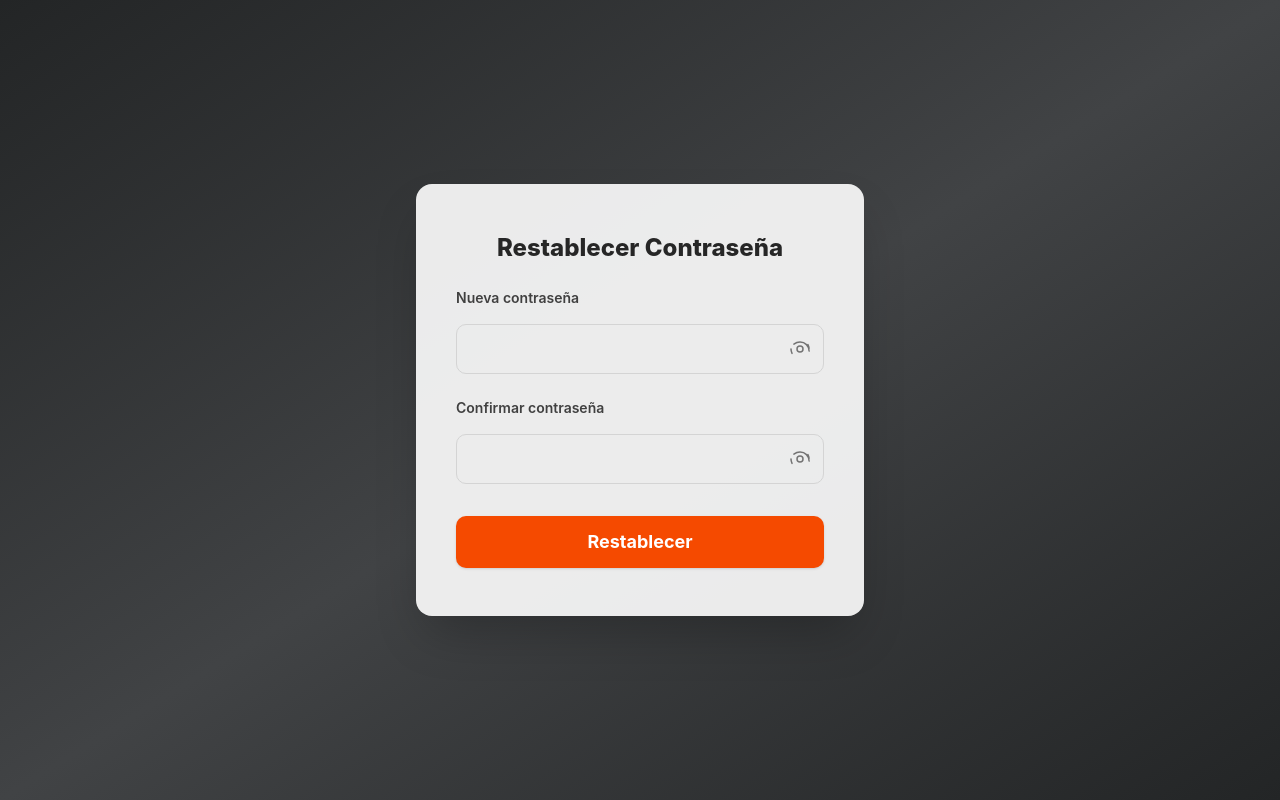
Test case: ResetPassword › shows error when password is too short
Type "12345" into the password field labelled "Nueva contraseña" at (640,349), box [456,324,824,374]
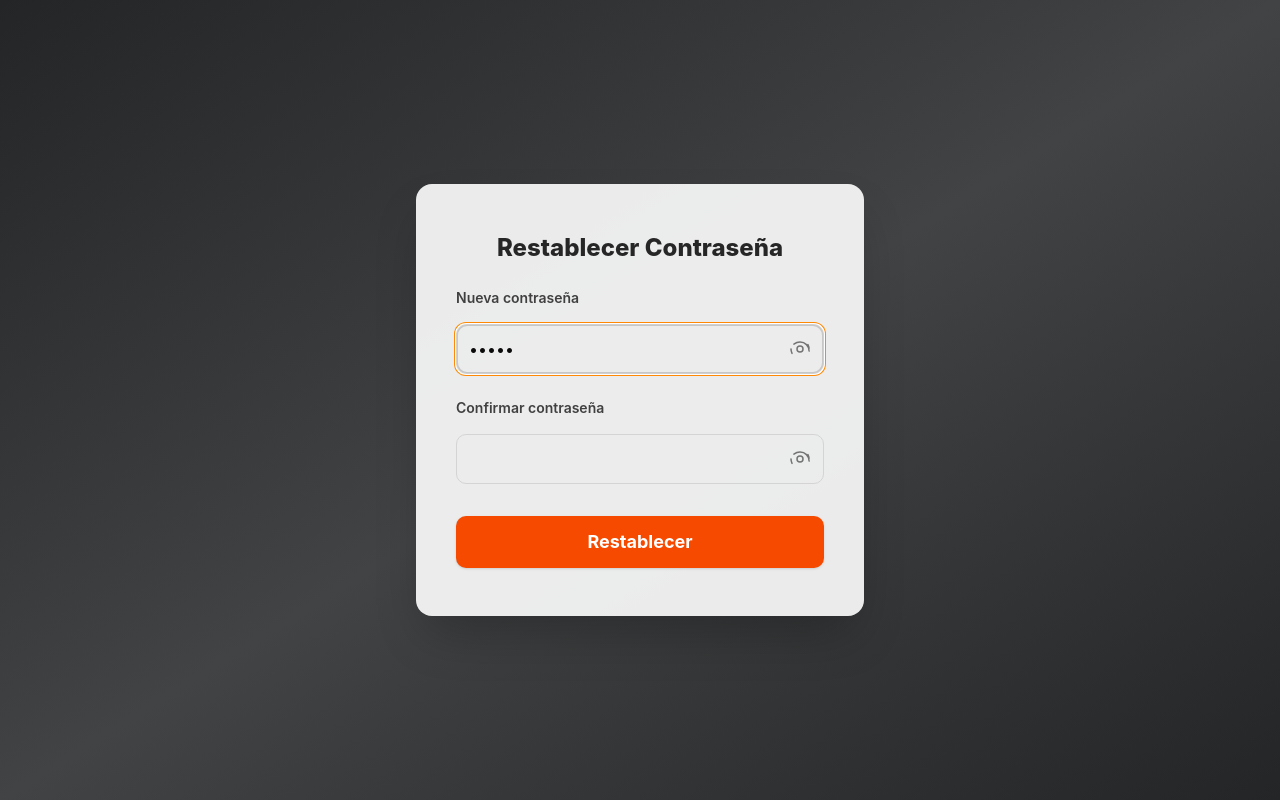
Type "12345" into the password field labelled "Confirmar contraseña" at (640,459), box [456,434,824,484]
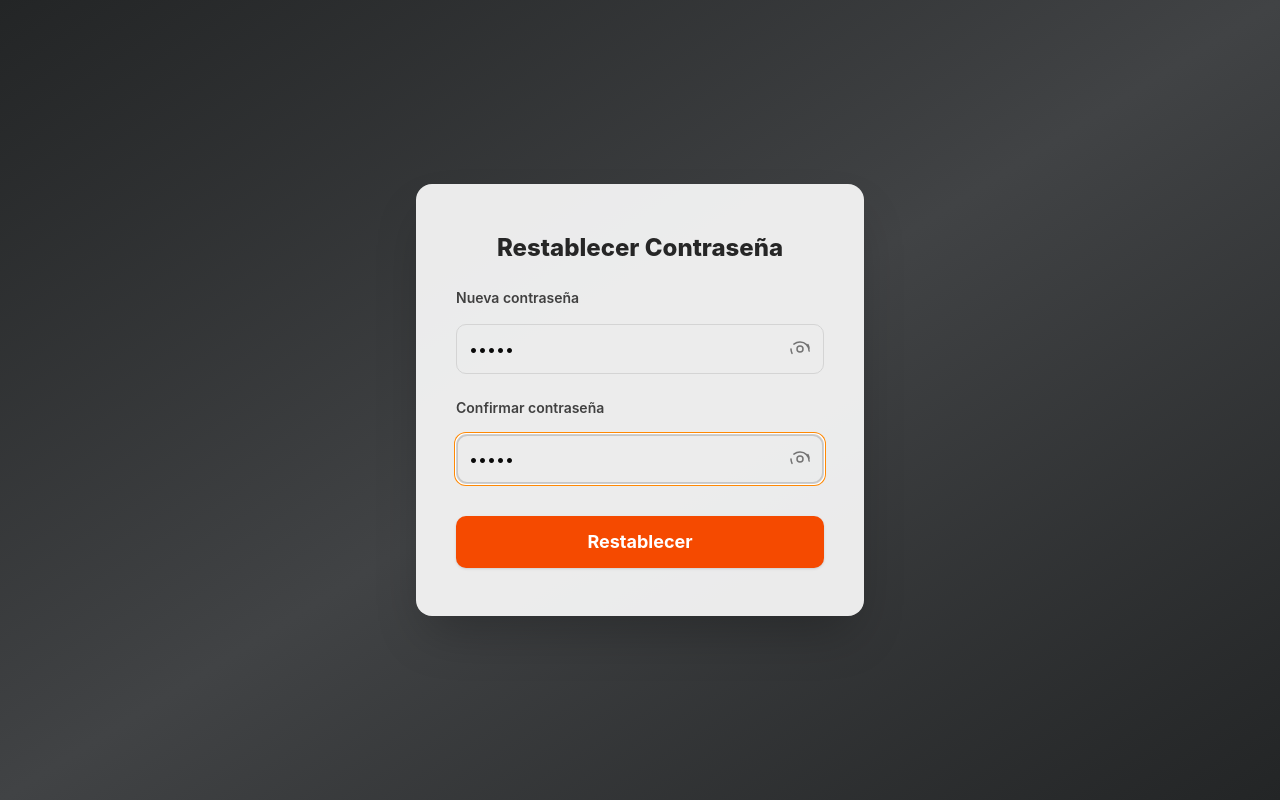
Click the button "Restablecer" at (640,542), box [456,516,824,568]
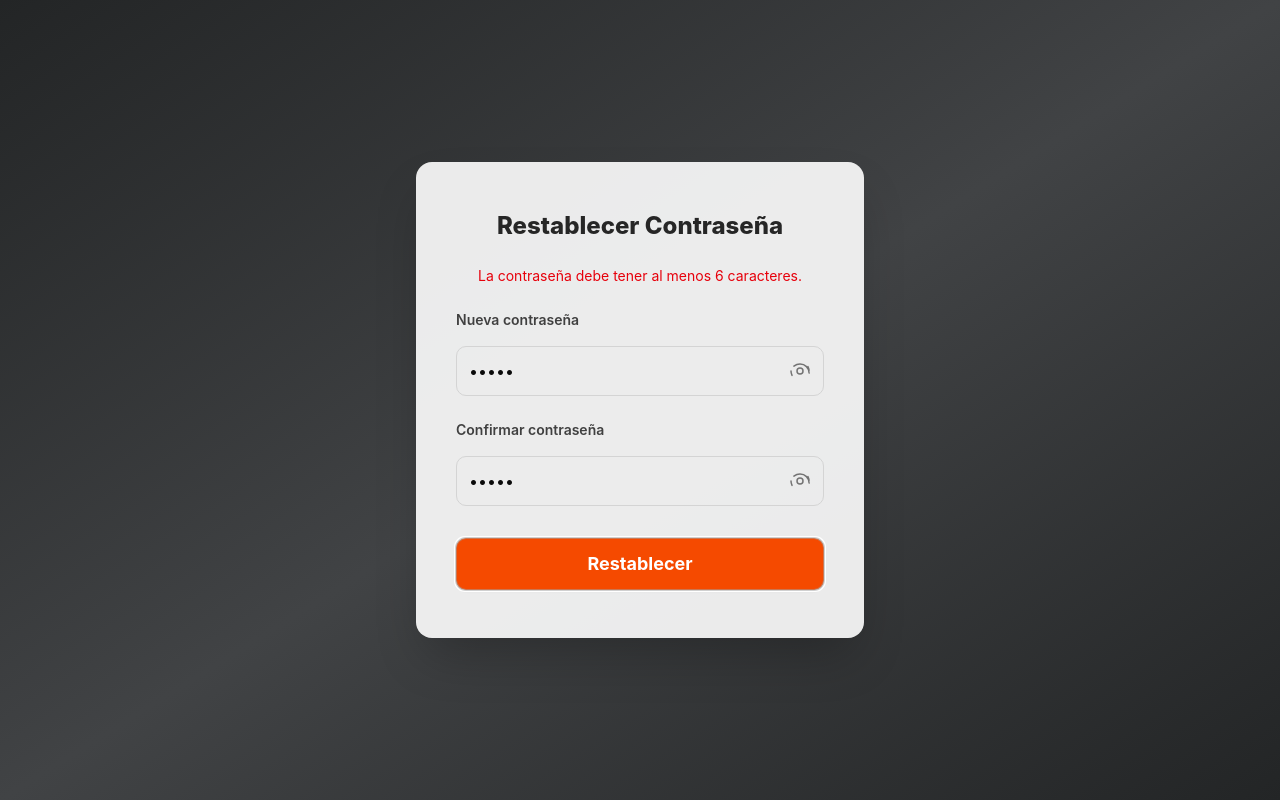
Now the text "La contraseña debe tener al menos 6 caracteres." is shown, box [456,266,824,286]
